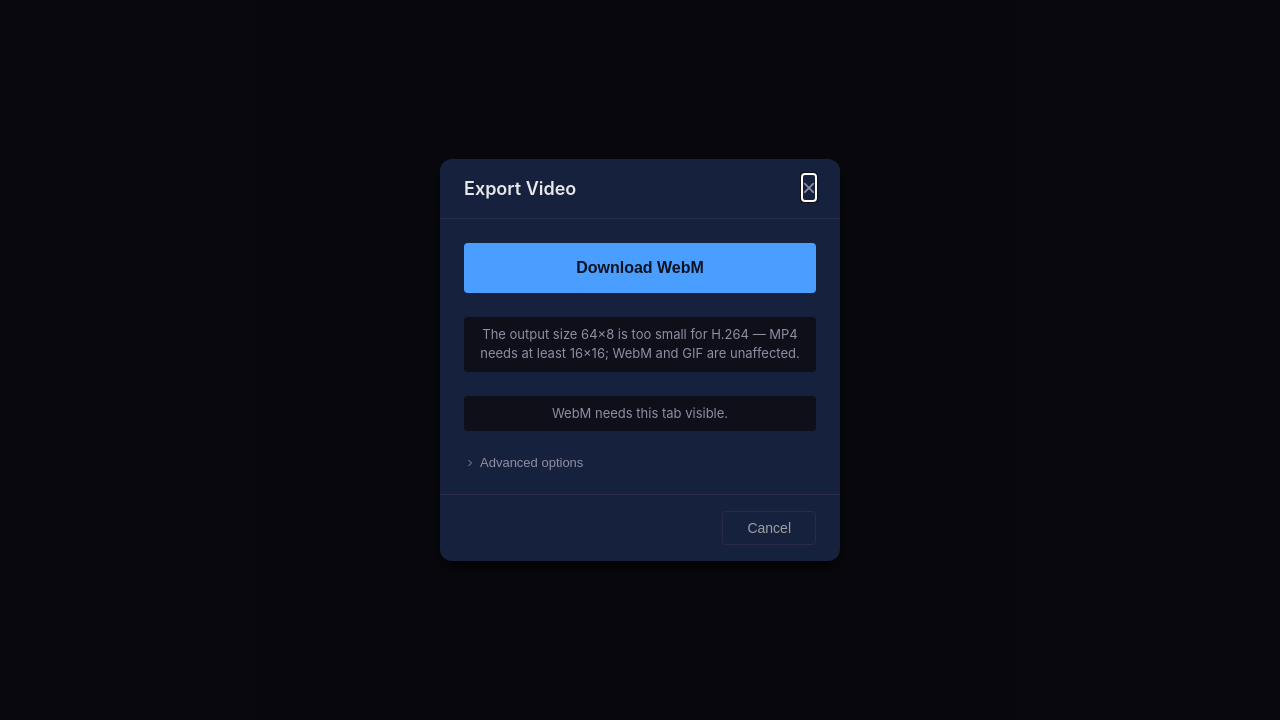
Test: ExportDialog › rendering › names the output size, not the browser, when MP4 is refused at this size only
expect the button "Download WebM" is enabled: met, box [464,243,816,293]
Click the button "Advanced options": (532, 463) [464,455,816,470]
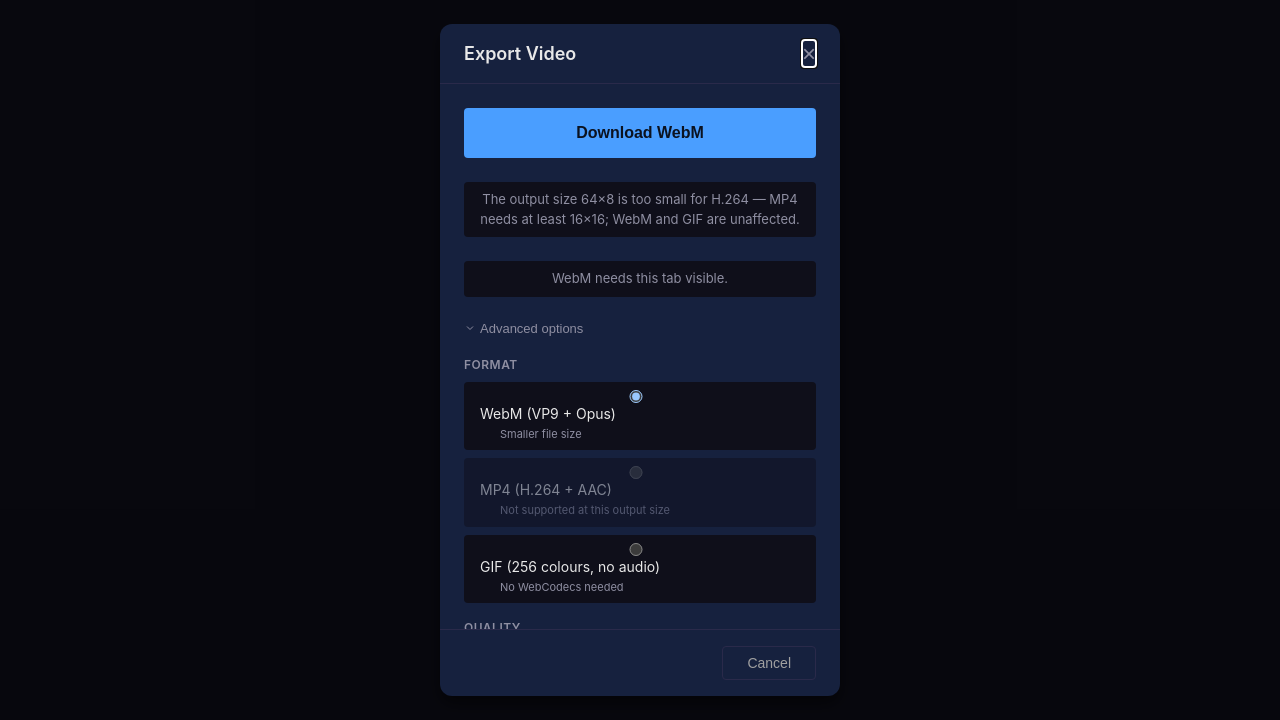
expect the radio button labelled "MP4 (H.264 + AAC) Not supported at this output size" is disabled: met, box [480,466,792,479]
expect the text "Not supported at this output size" is shown: met, box [500,503,670,517]
